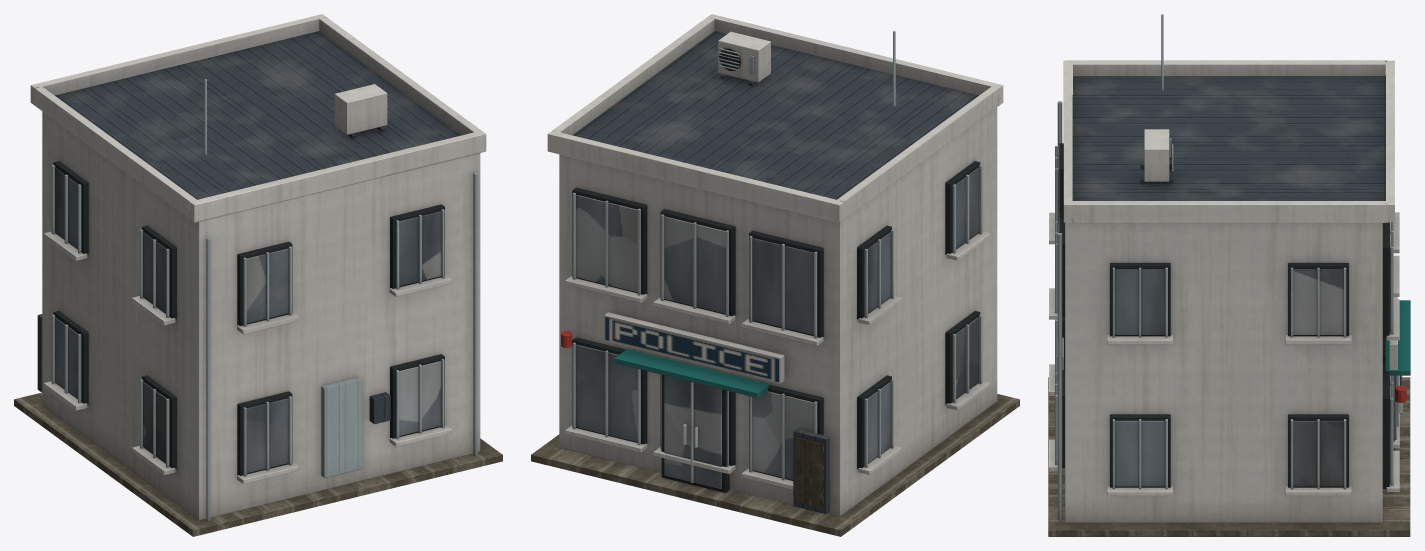
Rendered from public_003.obj.
3 renders of one model, left to right at view 1: azimuth 30°, elevation 25°; view 2: azimuth 150°, elevation 25°; view 3: azimuth 270°, elevation 25°, orthographic.
Parts seen in each view (by area): view 1: public_003; view 2: public_003; view 3: public_003.
Part boxes in pixels (box(x1,y1,x2,y2)): public_003: box(14, 14, 502, 536); public_003: box(531, 14, 1019, 536); public_003: box(1048, 14, 1410, 536).
Bounding box in the file's own units: 6.5 × 8 × 6.51.
Materials: 1 (1 with a texture image).
